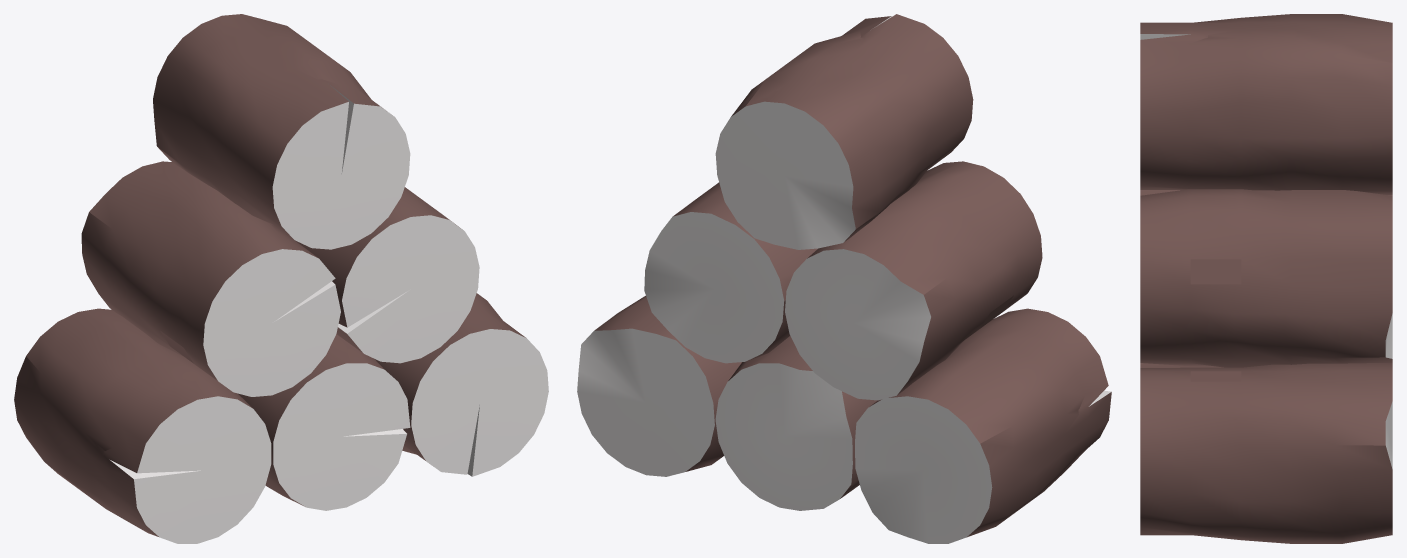
Rendered from wooden_pile.fbx.
The picture shows the model from 3 angles, left to right: view 1: azimuth 30°, elevation 25°; view 2: azimuth 150°, elevation 25°; view 3: azimuth 270°, elevation 25°; orthographic projection. The views are drawn at different scales.
Parts seen in each view (by area): view 1: pCylinder7; view 2: pCylinder7; view 3: pCylinder7.
Boxes of the visible parts, x1=… form: pCylinder7: x1=14, y1=14, x2=548, y2=543; pCylinder7: x1=577, y1=14, x2=1111, y2=543; pCylinder7: x1=1140, y1=14, x2=1392, y2=543.
Bounding box in the file's own units: 3.06 × 2.86 × 1.5.
